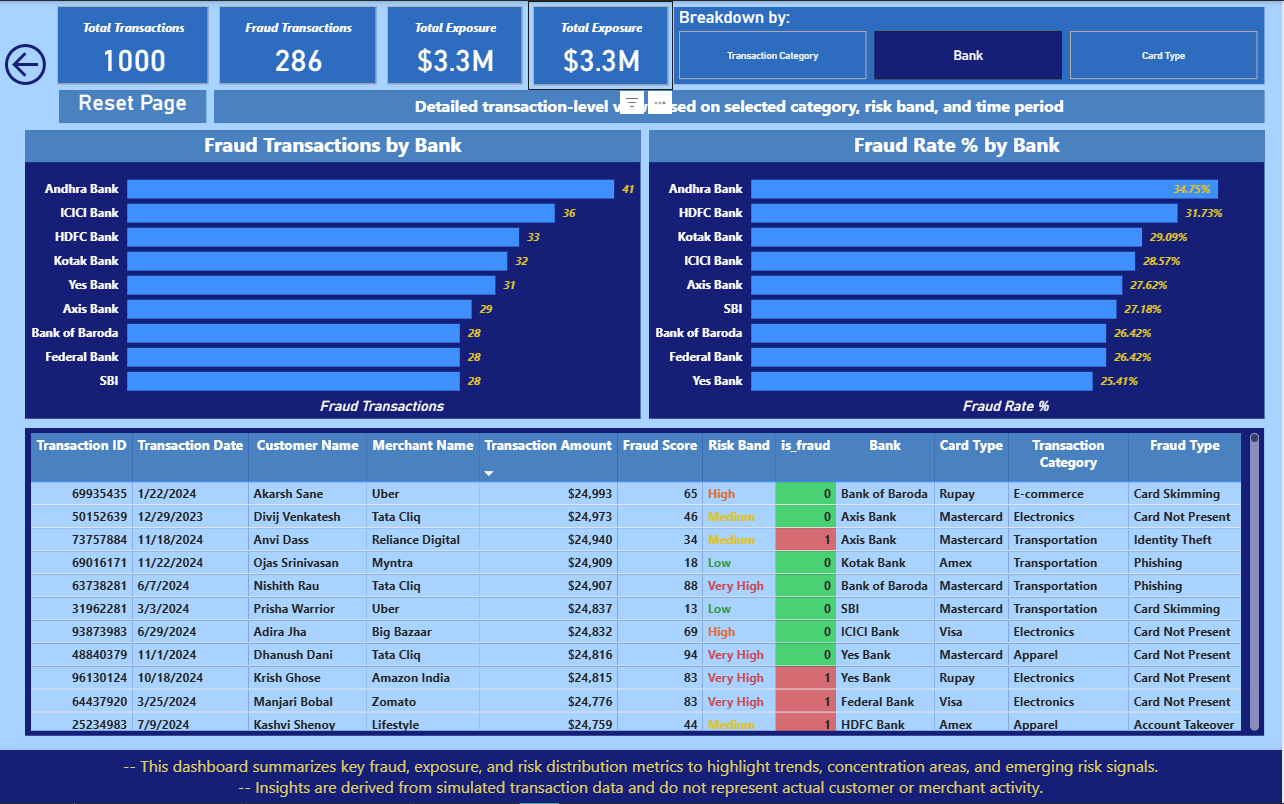

Layout of this report page (visuals, bound fields, positions):
{"tool":"powerbi","page":{"name":"Transaction Risk Details","canvas":[1280,800],"ordinal":1},"visuals":[{"type":"textbox","box":[0,747.1,1279.8,52.9],"z":0},{"type":"actionButton","title":"Go Back","box":[0,6.4,52.7,115.5],"z":1000},{"type":"cardVisual","fields":{"Data":["Available Measures.Total Transactions"]},"box":[52.9,0,161.6,88.8],"z":2000},{"type":"cardVisual","fields":{"Data":["Available Measures.Total Exposure"]},"box":[382,0,145.6,88.8],"z":3000},{"type":"cardVisual","fields":{"Data":["Available Measures.Fraud Transactions"]},"box":[214.5,0,167.6,88.8],"z":4000},{"type":"textbox","box":[214,89,1048,33],"z":5000},{"type":"advancedSlicerVisual","title":"Breakdown by:","fields":{"Values":["Breakdown Parameter.Breakdown Parameter"]},"box":[673,6,589,77],"z":6000},{"type":"cardVisual","fields":{"Data":["Available Measures.Total Exposure"]},"box":[527.3,0,145.5,89.1],"z":7000},{"type":"clusteredBarChart","fields":{"Category":["transactions_enriched.Bank"],"Y":["Available Measures.Fraud Transactions"]},"box":[26,129,614,288],"z":8000},{"type":"tableEx","fields":{"Values":["transactions_enriched.Transaction ID","transactions_enriched.Transaction Date","transactions_enriched.Customer Name","transactions_enriched.Merchant Name","transactions_enriched.Transaction Amount","transactions_enriched.Fraud Score","transactions_enriched.Risk Band","transactions_enriched.is_fraud","transactions_enriched.Bank","transactions_enriched.Card Type","transactions_enriched.Transaction Category","transactions_enriched.Fraud Type"]},"box":[26,426,1236,307],"z":9000},{"type":"clusteredBarChart","fields":{"Category":["transactions_enriched.Bank"],"Y":["Available Measures.Fraud Rate %"]},"box":[648,129,614,288],"z":10000},{"type":"actionButton","title":"Reset Page","box":[60,89,147,33],"z":10001}]}

Visuals, with their boxes in screenshot pixels (x1, y1, x2, y2), scaled from the page's 1280x800 canvas onto the 1284x804 screenshot:
textbox: <box>0,751,1283,803</box>
"Go Back" actionButton: <box>0,6,53,123</box>
cardVisual - Available Measures.Total Transactions: <box>53,0,215,89</box>
cardVisual - Available Measures.Total Exposure: <box>383,0,529,89</box>
cardVisual - Available Measures.Fraud Transactions: <box>215,0,383,89</box>
textbox: <box>215,89,1266,123</box>
"Breakdown by:" advancedSlicerVisual: <box>675,6,1266,83</box>
cardVisual - Available Measures.Total Exposure: <box>529,0,675,90</box>
clusteredBarChart - transactions_enriched.Bank x Available Measures.Fraud Transactions: <box>26,130,642,419</box>
tableEx - transactions_enriched.Transaction ID x transactions_enriched.Transaction Date: <box>26,428,1266,737</box>
clusteredBarChart - transactions_enriched.Bank x Available Measures.Fraud Rate %: <box>650,130,1266,419</box>
"Reset Page" actionButton: <box>60,89,208,123</box>
